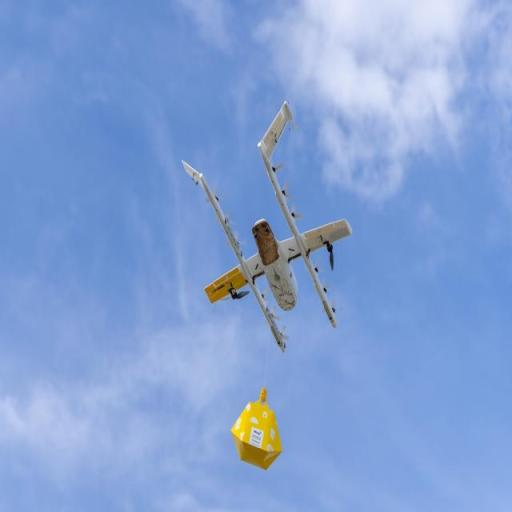uav: (180, 96, 368, 363)
